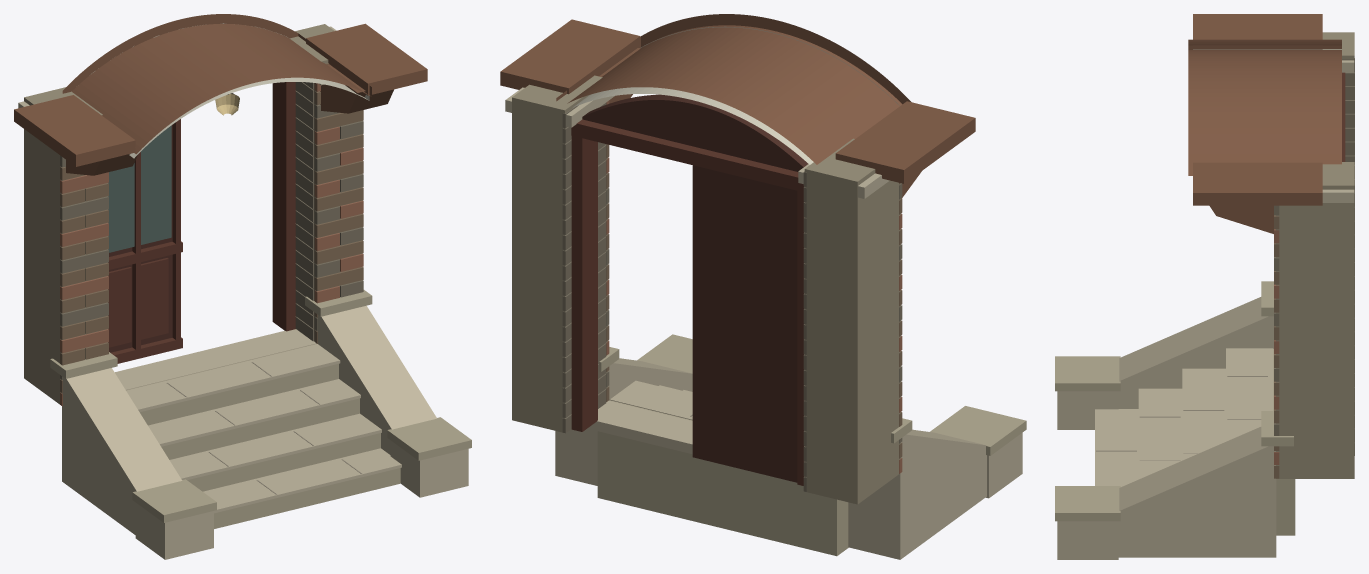
Rendered from jingan-theatre-academy-yuxiu-stone-porch-web.glb.
3 views of the same model, side by side, from view 1: azimuth 30°, elevation 25°; view 2: azimuth 150°, elevation 25°; view 3: azimuth 270°, elevation 25° (orthographic). The views are drawn at different scales.
Parts seen in each view (by area): view 1: 上海戏剧学院毓琇楼弧形门罩与夹墙石阶; view 2: 上海戏剧学院毓琇楼弧形门罩与夹墙石阶; view 3: 上海戏剧学院毓琇楼弧形门罩与夹墙石阶.
Part boxes in pixels (x1,y1,x2,y2): 上海戏剧学院毓琇楼弧形门罩与夹墙石阶: (14,14,471,559); 上海戏剧学院毓琇楼弧形门罩与夹墙石阶: (500,14,1026,559); 上海戏剧学院毓琇楼弧形门罩与夹墙石阶: (1055,14,1354,559).
Size of the model in its own units: 3.1 by 3.41 by 2.19.
